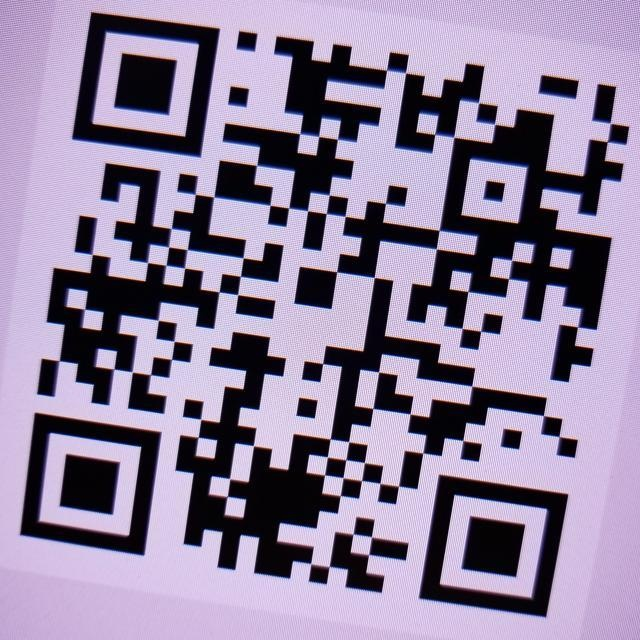qr-code: (7, 4, 636, 630)
